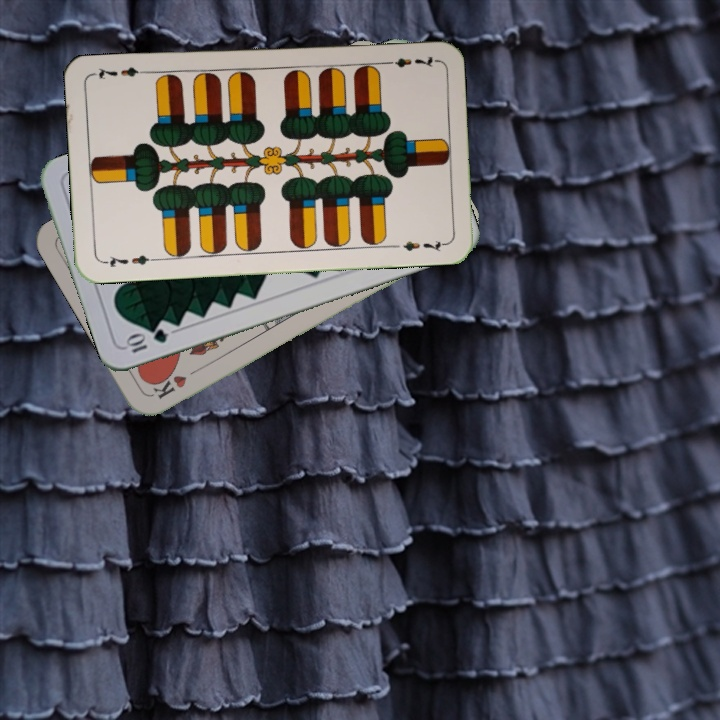E7: (99, 250, 158, 270), (379, 52, 438, 71)
G10: (122, 325, 171, 356)
HK: (149, 362, 204, 401)
